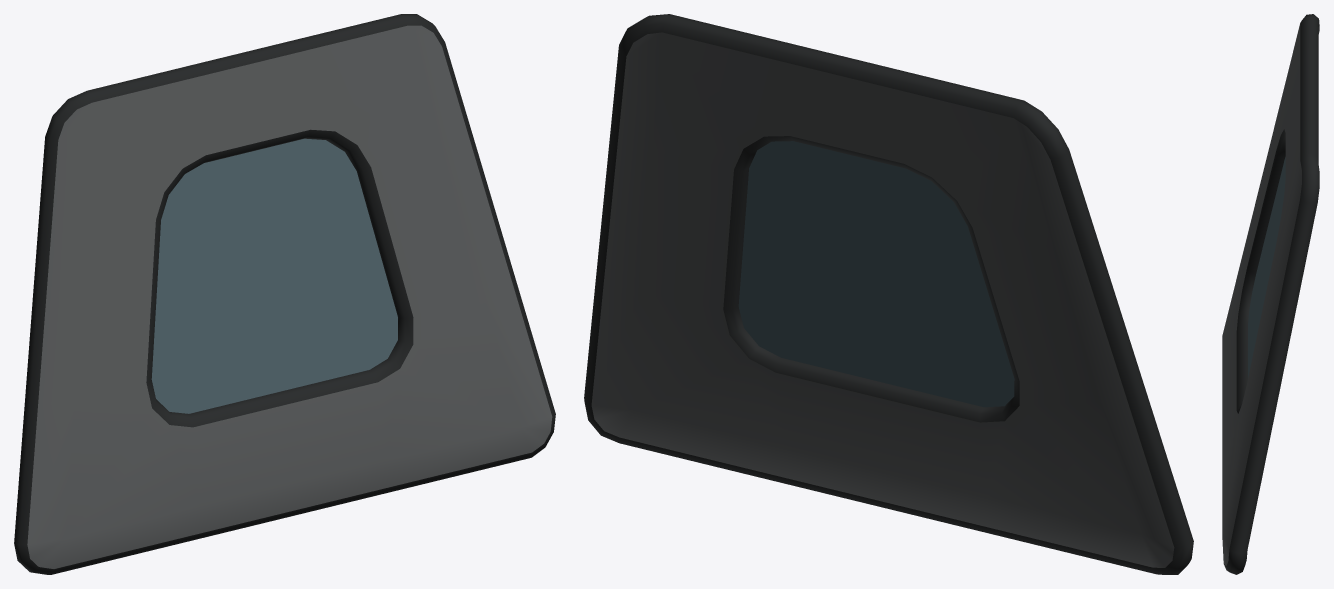
The model's file is Tent_001_Door_001.fbx.
3 views of the same model, side by side, from view 1: azimuth 30°, elevation 25°; view 2: azimuth 150°, elevation 25°; view 3: azimuth 270°, elevation 25° (orthographic). The views are drawn at different scales.
Visible parts, largest first — view 1: Tent_001_Door_001; view 2: Tent_001_Door_001; view 3: Tent_001_Door_001.
Boxes of the visible parts, x1,y1,x2,y2 form: Tent_001_Door_001: [14, 14, 555, 574]; Tent_001_Door_001: [584, 14, 1193, 574]; Tent_001_Door_001: [1222, 14, 1319, 574].
Bounding box in the file's own units: 255 × 45.05 × 195.
